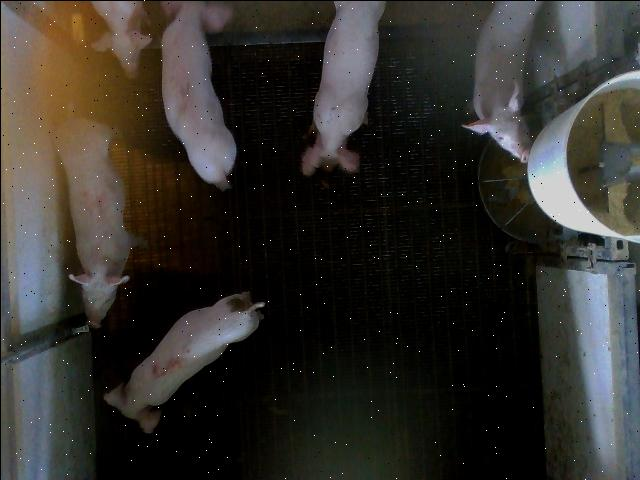pig-4: (54, 118, 139, 326)
pig-5: (104, 291, 264, 431)
